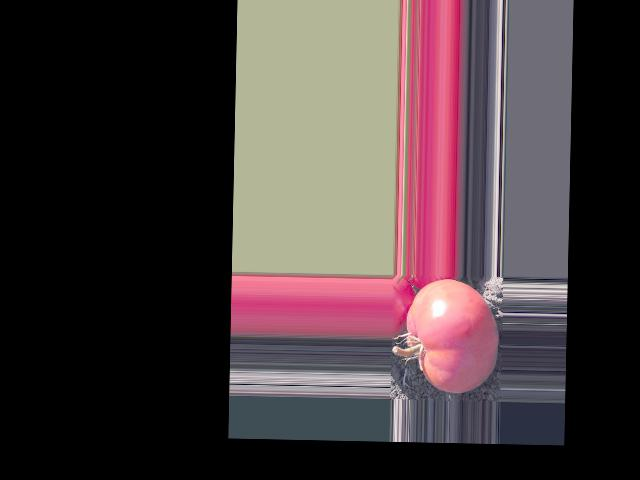tomato: (405, 278, 499, 394)
